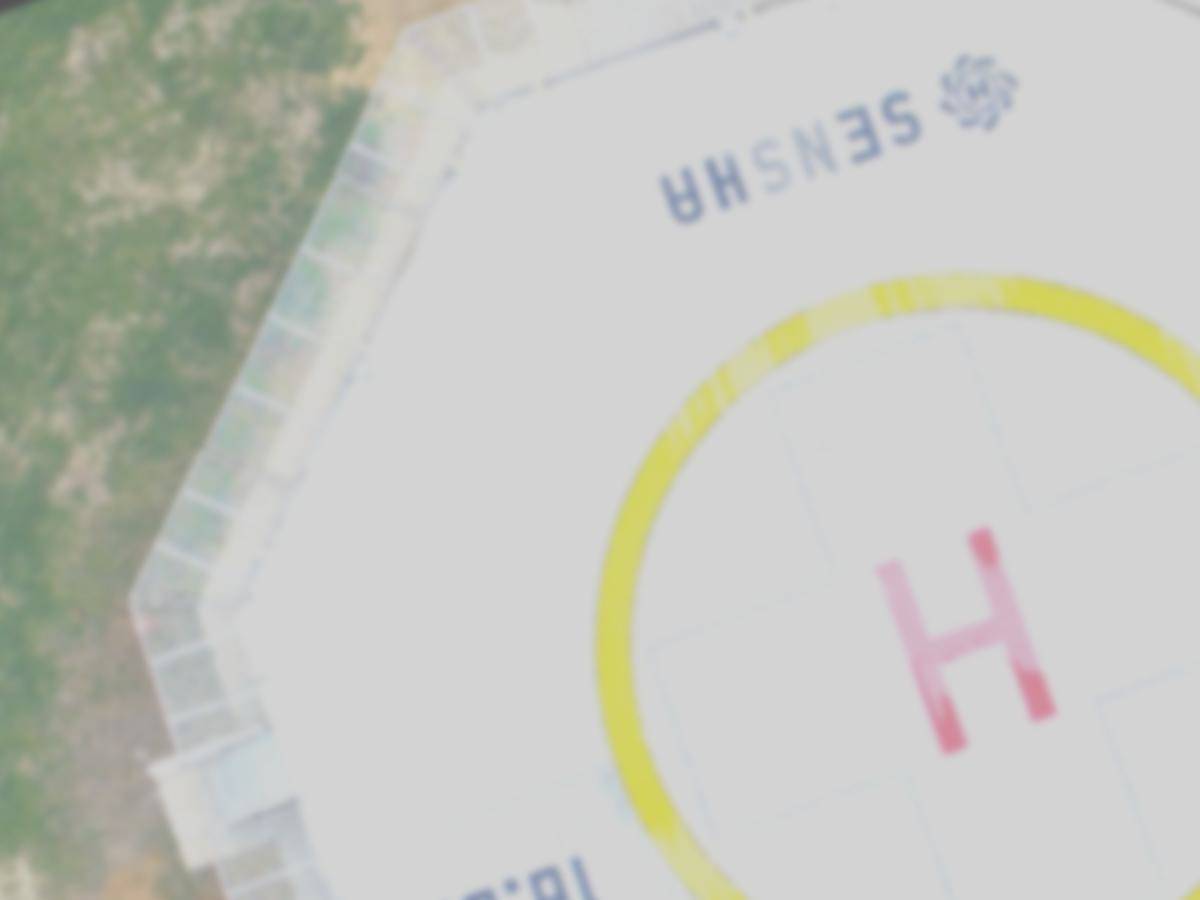Apron: (583, 236, 1200, 900)
